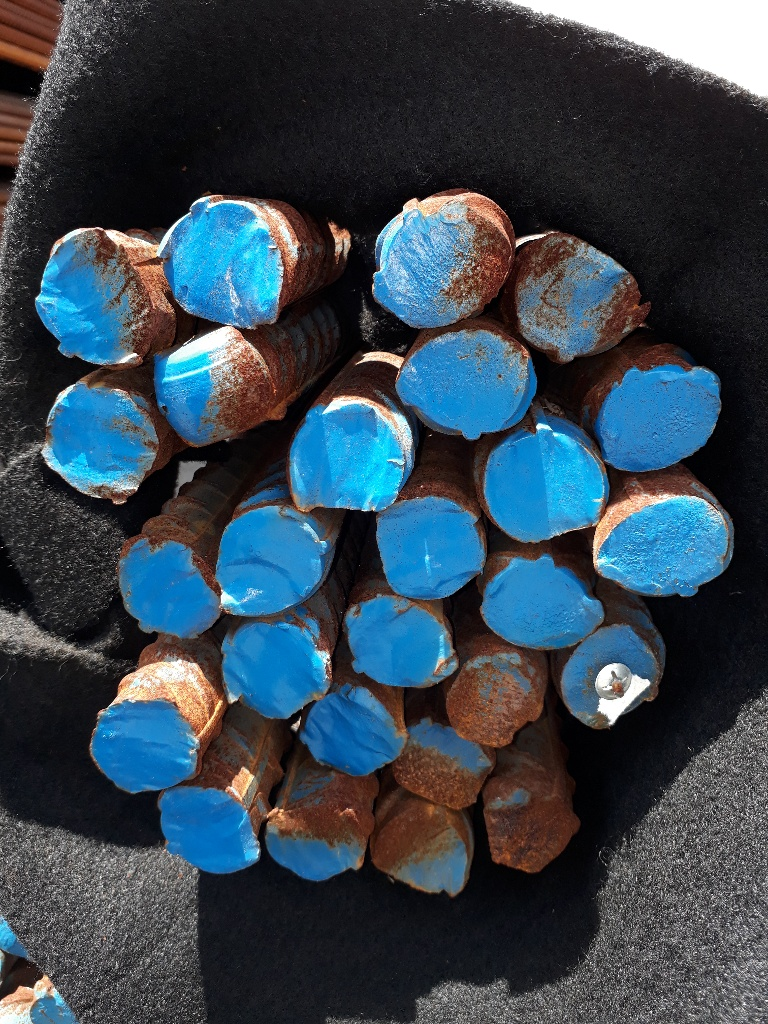dipstick: (371, 204, 512, 331), (513, 237, 650, 362), (161, 199, 283, 331), (31, 227, 148, 363), (398, 331, 537, 440), (153, 324, 275, 444), (43, 387, 159, 508), (595, 496, 729, 594), (217, 505, 327, 618), (601, 365, 715, 473), (558, 622, 660, 732), (482, 562, 603, 651), (344, 595, 457, 688), (222, 622, 331, 718), (379, 498, 481, 600), (90, 695, 195, 794), (480, 771, 578, 873), (119, 542, 222, 638), (158, 783, 260, 874), (301, 688, 404, 776), (443, 660, 542, 748), (371, 810, 470, 898), (390, 722, 490, 808), (262, 809, 362, 882)
